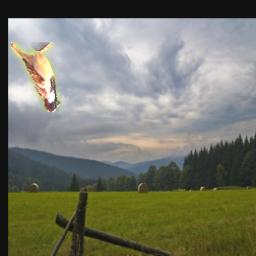Sparrow: (11, 43, 62, 113)
